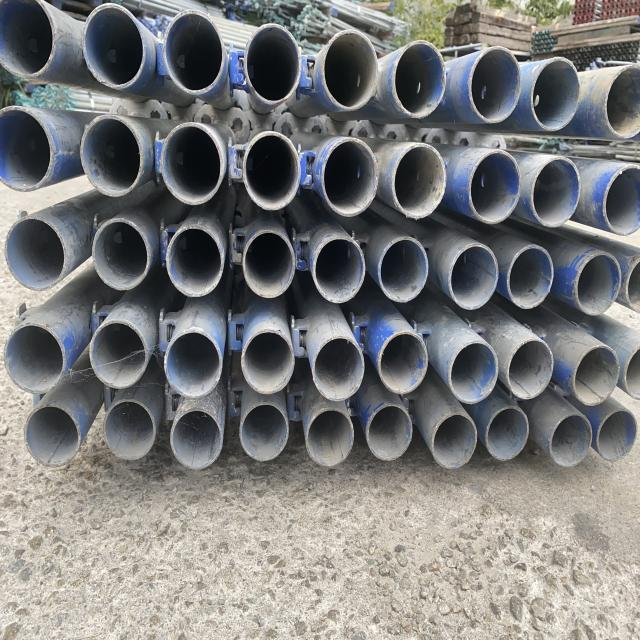pipe: (82, 4, 152, 94), (162, 9, 230, 100), (78, 113, 151, 197), (160, 121, 228, 205), (0, 211, 70, 291), (0, 104, 61, 194), (390, 37, 450, 128), (319, 28, 381, 116), (242, 129, 304, 213), (244, 23, 308, 104), (316, 136, 379, 218), (162, 326, 229, 402), (1, 319, 66, 396), (161, 224, 225, 302), (86, 318, 152, 392), (466, 43, 524, 127), (465, 146, 523, 228), (89, 219, 151, 295), (389, 141, 447, 222), (20, 401, 84, 473), (0, 0, 56, 80), (529, 54, 581, 136), (241, 222, 297, 298), (311, 233, 368, 306), (168, 402, 225, 475), (532, 153, 584, 233), (448, 240, 500, 319), (376, 328, 432, 400), (376, 235, 431, 308), (239, 329, 296, 399), (311, 336, 368, 406), (301, 405, 357, 474), (99, 398, 158, 463), (568, 251, 620, 324), (444, 338, 499, 406), (238, 398, 292, 467), (428, 408, 480, 477), (506, 242, 554, 316), (507, 336, 557, 406), (570, 344, 622, 408), (484, 401, 532, 467), (366, 404, 414, 469), (602, 160, 640, 242), (603, 61, 640, 143), (548, 412, 594, 474), (594, 410, 638, 464), (625, 247, 640, 324), (625, 346, 640, 412)
